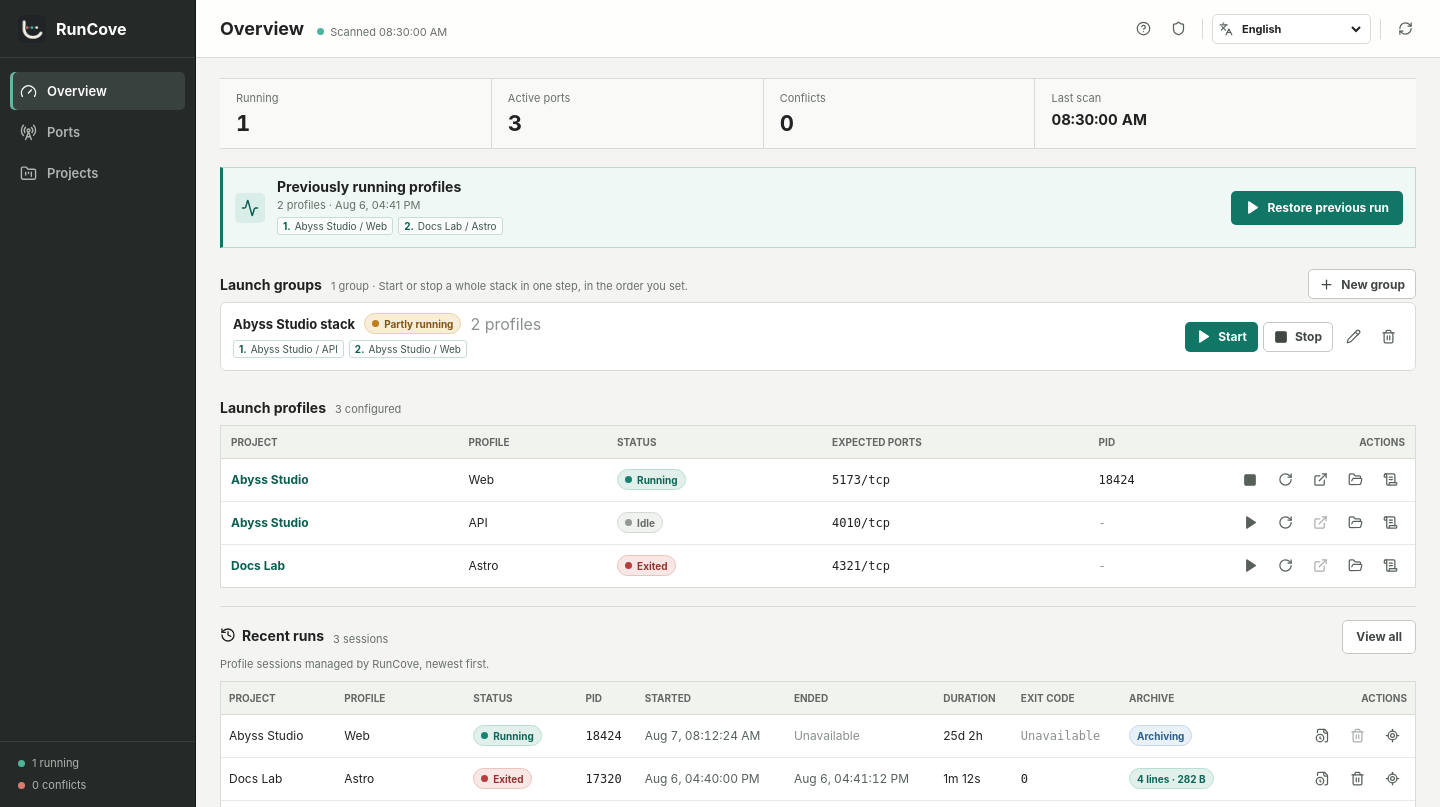
Scenario: RunCove desktop shell › keeps partial restore details visible after refreshing the dashboard
Expected: the heading "Launch profiles" is shown, [220, 398, 326, 416]
Click the button "Restore previous run".
click(1317, 208)  # box [1231, 190, 1403, 224]
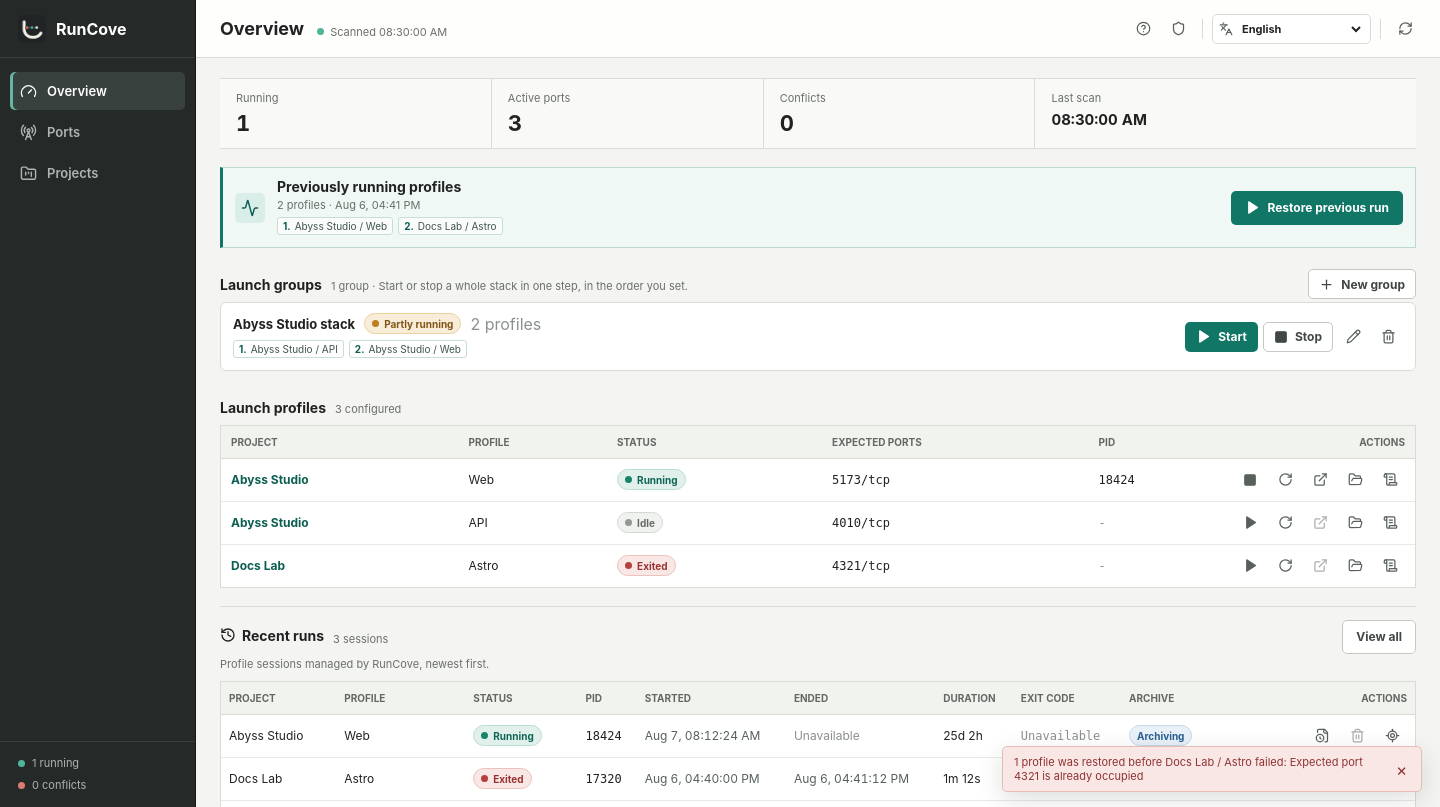
Expected: the message shows "Expected port 4321 is already occupied", [1014, 755, 1363, 783]
